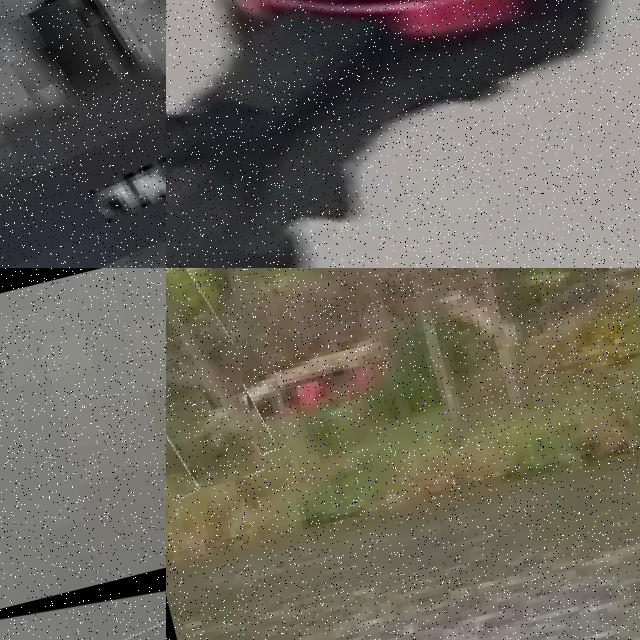0: (0, 0, 166, 268), (0, 494, 166, 640)
drone: (166, 0, 640, 268), (166, 268, 265, 502)
